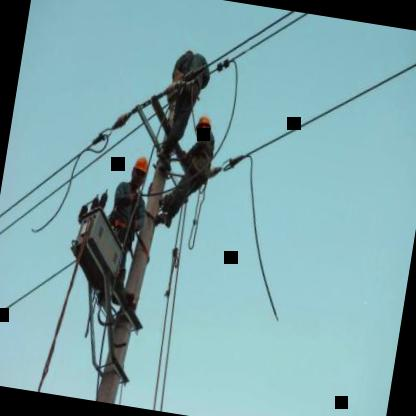helmet: (129, 150, 151, 192), (192, 110, 214, 143)
